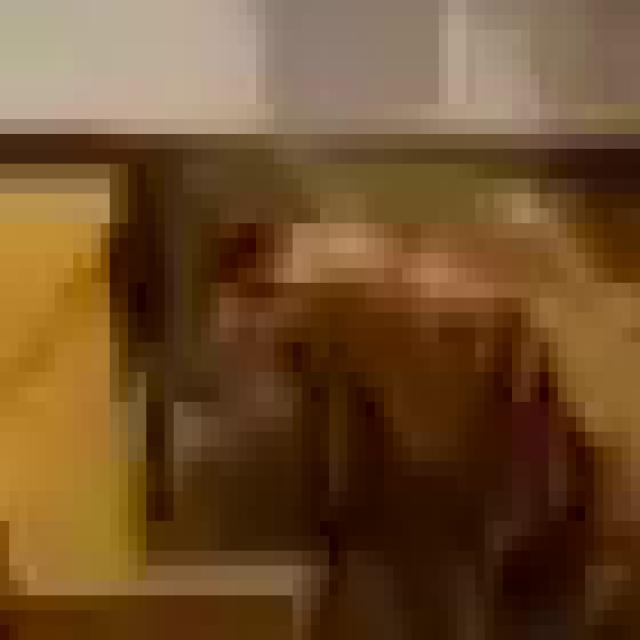honeybee: (95, 121, 577, 547)
